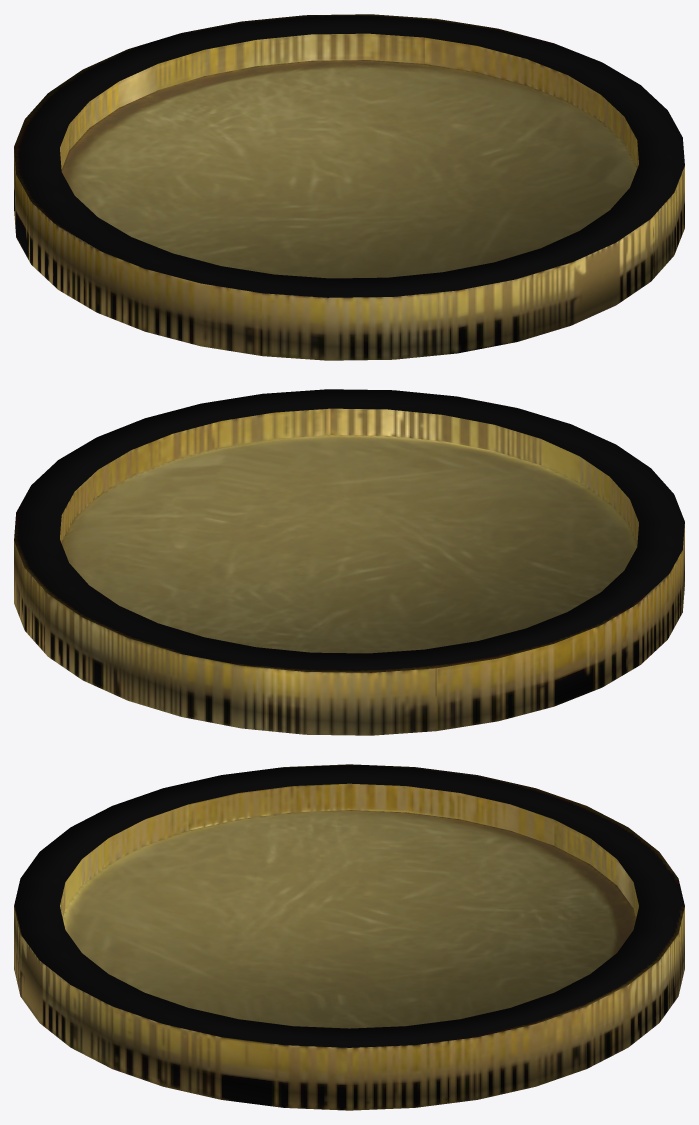
Rendered from GO_DM_jeton80.gltf.
The picture shows the model from 3 angles, top to bottom: view 1: azimuth 30°, elevation 25°; view 2: azimuth 150°, elevation 25°; view 3: azimuth 270°, elevation 25°; orthographic projection.
Parts seen in each view (by area): view 1: Jeton_SM.003; view 2: Jeton_SM.003; view 3: Jeton_SM.003.
Part boxes in pixels (x1,y1,x2,y2): Jeton_SM.003: (14,14,684,360); Jeton_SM.003: (14,389,684,735); Jeton_SM.003: (14,764,684,1110).
Size of the model in its own units: 0.0804 by 0.0083 by 0.0804.
1 material, 1 textured.
